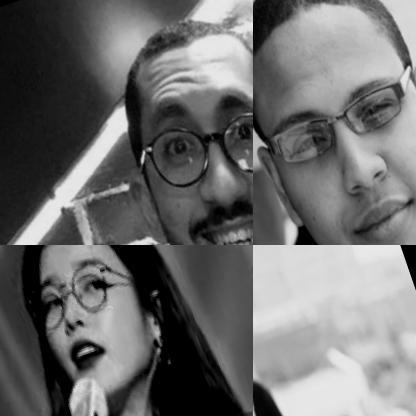glasses: (253, 46, 415, 176), (0, 245, 162, 349), (135, 90, 252, 205)
hands: (195, 245, 252, 415)
mouth: (56, 329, 118, 380)
